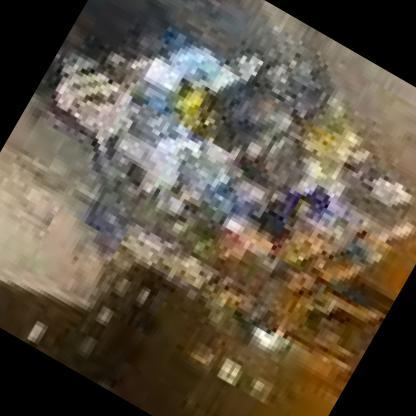Garbage: (25, 0, 306, 239), (74, 123, 281, 315), (134, 16, 346, 196), (218, 212, 402, 392), (180, 151, 355, 334), (246, 105, 415, 268)
